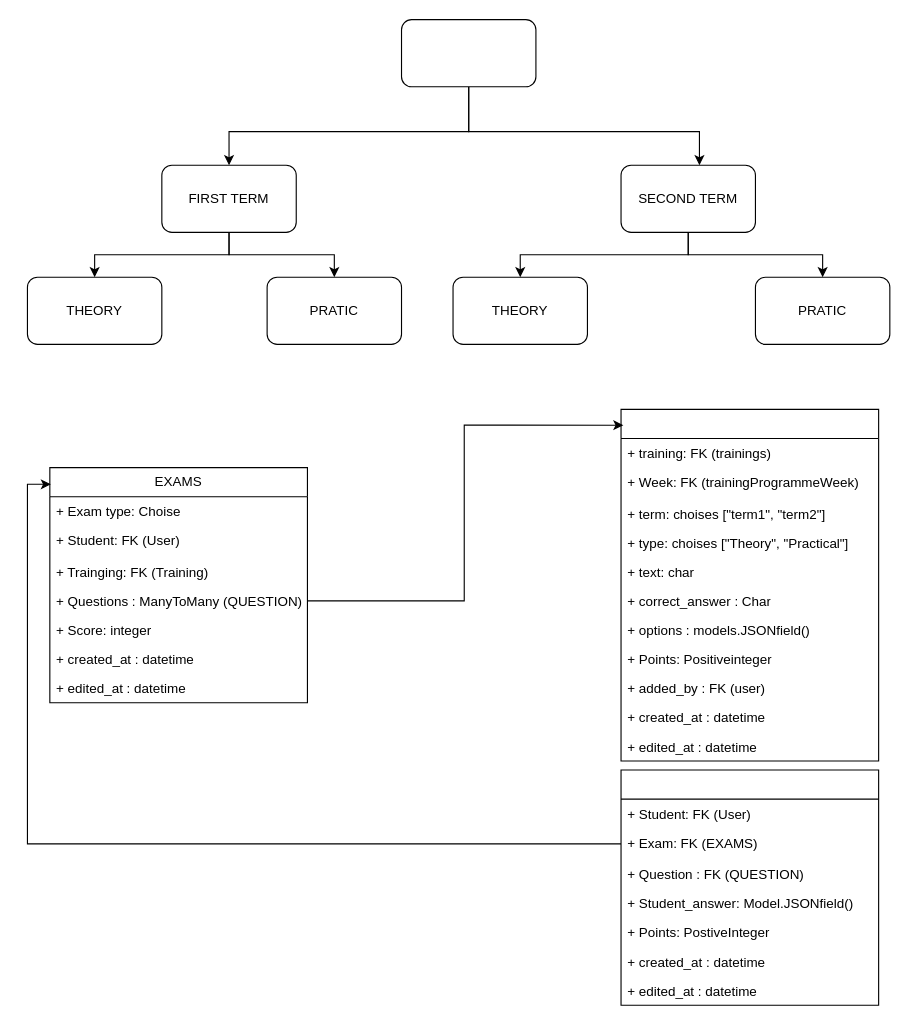
This 909x1028 diagram has some shape labels left out. Each missing label, with the box of its shape:
EXAM: (400, 18, 536, 87)
QUESTION: (620, 408, 879, 761)
SUBMET: (620, 769, 879, 1005)
